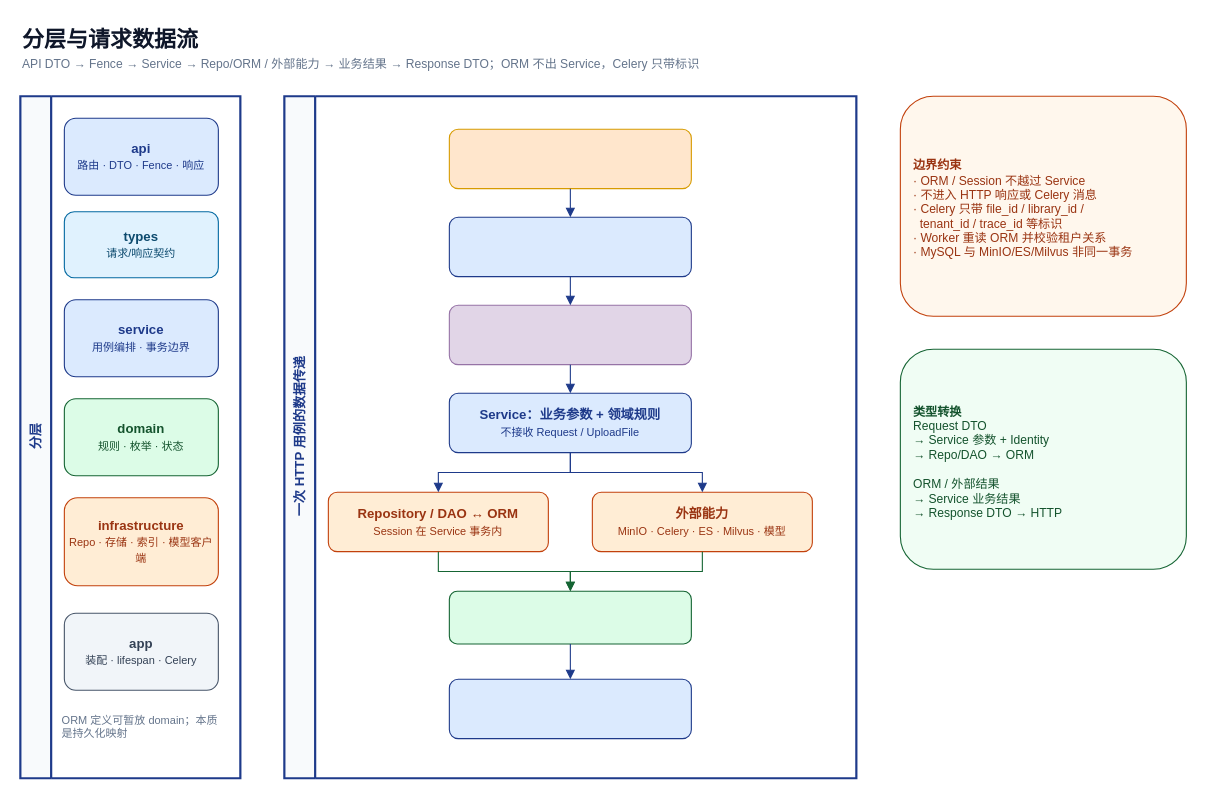
Some shapes in this 1206 by 798 pixel diagram are drawn without their labels. The centre of each missing label's shape, as x and y in pixels:
"API → Response DTO / ApiResponse 统一错误映射 · 凭据脱敏" belongs at (x=569, y=708).
"API：解析 Request DTO 取得 IdentityContext" belongs at (x=569, y=246).
"HTTP 请求 身份凭证头 · X-Trace-ID" belongs at (x=569, y=158).
"KnowledgeFence 凭证 · 本地资源 · 按需 Check" belongs at (x=569, y=334).
"Service 业务结果 / 视图数据" belongs at (x=569, y=617).
